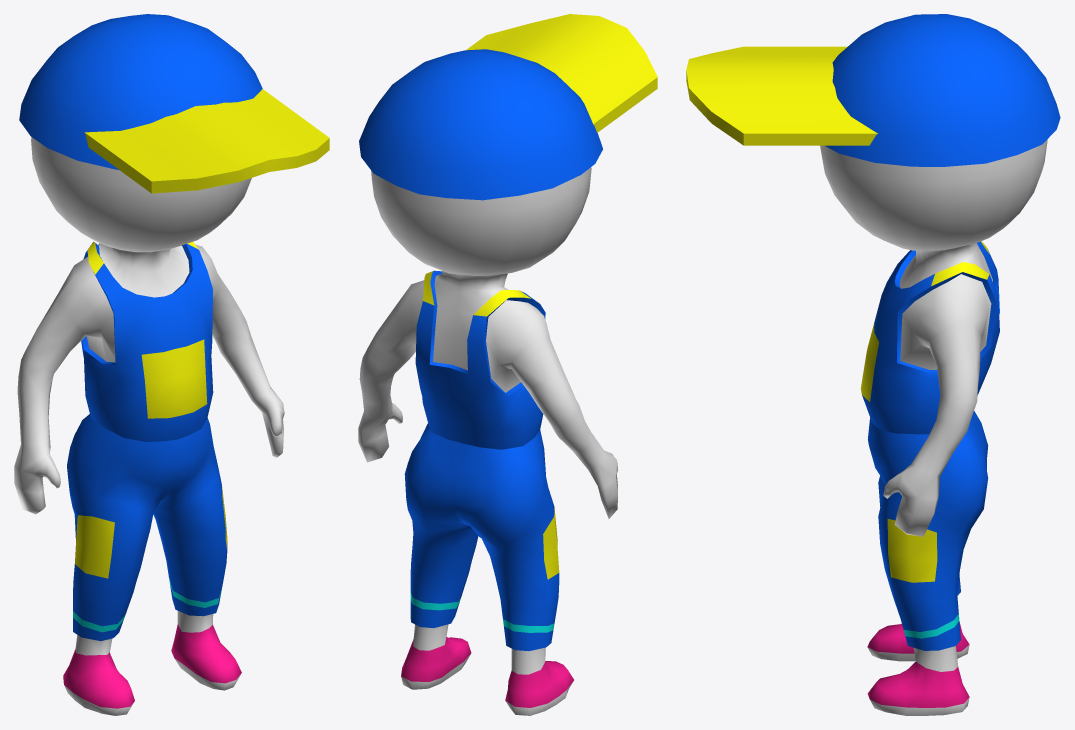
File: mechanic_A_pose.fbx
The picture shows the model from 3 angles, left to right: view 1: azimuth 30°, elevation 25°; view 2: azimuth 150°, elevation 25°; view 3: azimuth 270°, elevation 25°; orthographic projection. The views are drawn at different scales.
Visible parts, largest first — view 1: mechanic_A_pose; view 2: mechanic_A_pose; view 3: mechanic_A_pose.
Part boxes in pixels (box(x1,y1,x2,y2)): mechanic_A_pose: box(14, 14, 329, 715); mechanic_A_pose: box(358, 14, 657, 715); mechanic_A_pose: box(686, 14, 1060, 715).
Size of the model in its own units: 78.34 by 187 by 97.21.
